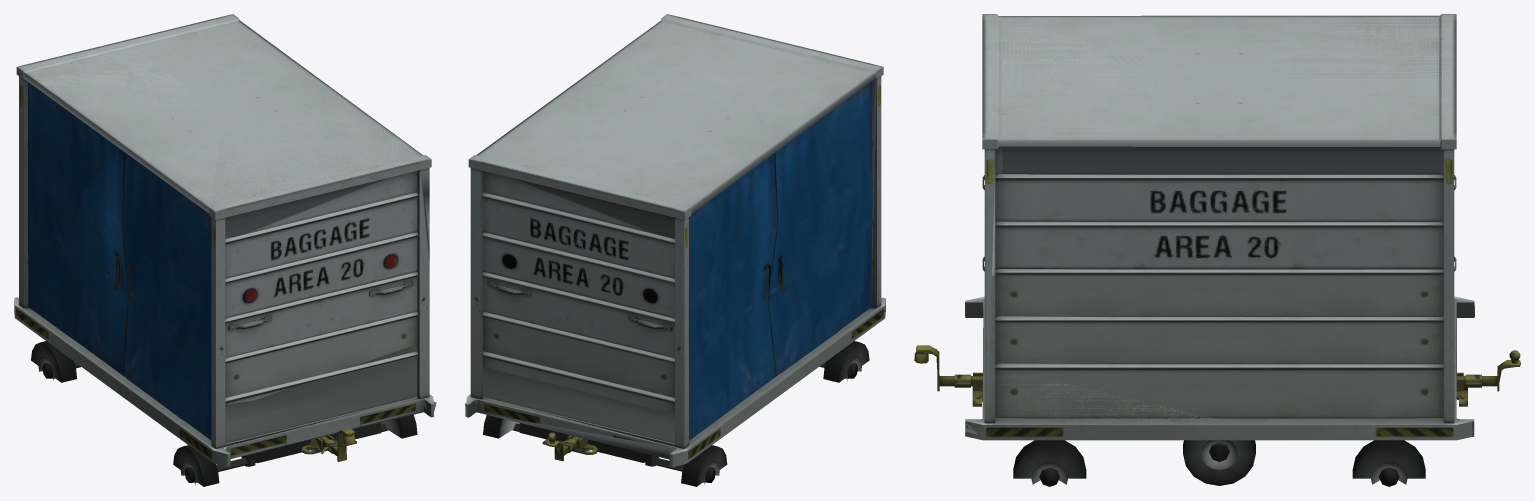
The model's file is bagcart1.glb.
The picture shows the model from 3 angles, left to right: view 1: azimuth 30°, elevation 25°; view 2: azimuth 150°, elevation 25°; view 3: azimuth 270°, elevation 25°; orthographic projection. The views are drawn at different scales.
Visible parts, largest first — view 1: body0, body2, body1; view 2: body0, body2, body1; view 3: body0, body2, body1, wheel0.
Part boxes in pixels (x1=…): body0: x1=14, y1=14, x2=433, y2=471; body2: x1=24, y1=20, x2=436, y2=486; body1: x1=19, y1=21, x2=430, y2=465; body0: x1=466, y1=14, x2=885, y2=471; body2: x1=465, y1=20, x2=876, y2=486; body1: x1=467, y1=15, x2=873, y2=451; body0: x1=914, y1=14, x2=1520, y2=440; body2: x1=914, y1=15, x2=1520, y2=486; body1: x1=915, y1=14, x2=1520, y2=422; wheel0: x1=1183, y1=440, x2=1255, y2=485.
Bounding box in the file's own units: 1.5 × 2.21 × 3.
Materials: 2 (1 with a texture image).
